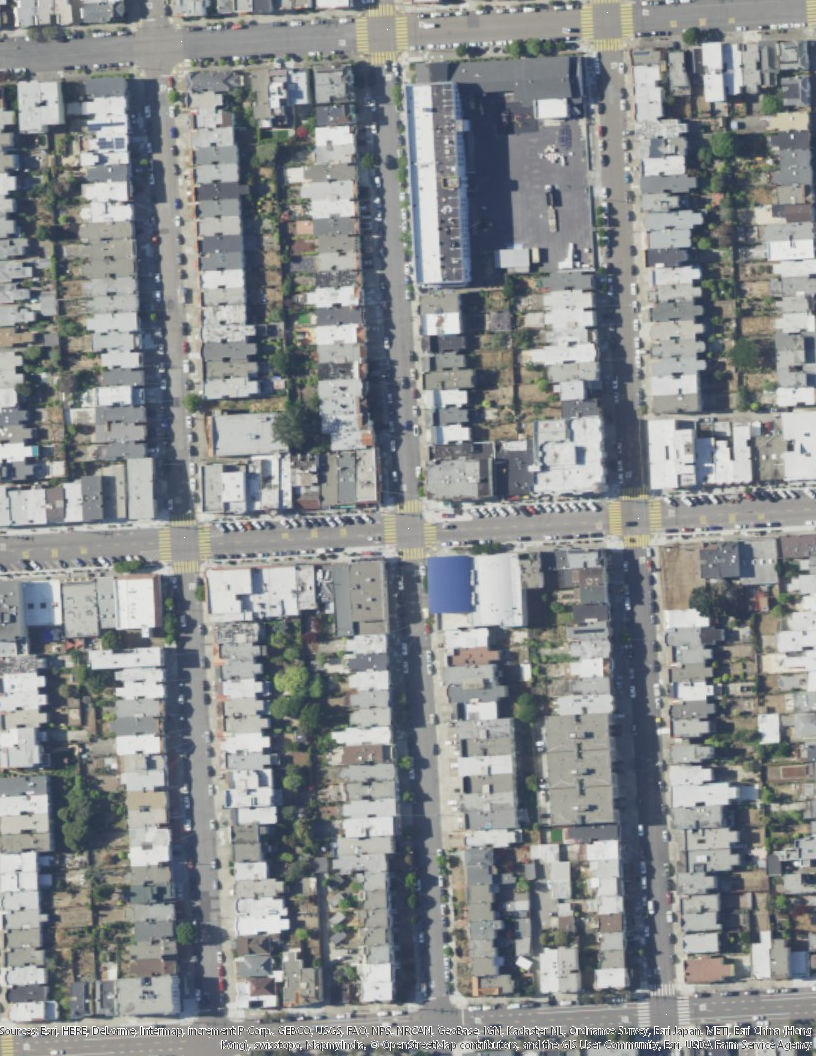zebracross: (580, 3, 596, 38), (354, 17, 369, 53), (620, 2, 635, 37), (158, 526, 172, 563), (608, 501, 623, 535), (394, 16, 409, 48), (383, 512, 397, 546), (199, 525, 212, 560), (649, 501, 662, 533), (620, 487, 648, 500), (678, 997, 690, 1027), (366, 3, 393, 16), (173, 561, 199, 574), (650, 984, 676, 997), (638, 1000, 651, 1026), (597, 37, 623, 50), (171, 513, 195, 527), (402, 546, 425, 560), (371, 51, 394, 65), (398, 499, 422, 512), (424, 524, 437, 543), (624, 535, 648, 545), (807, 1, 814, 23)
